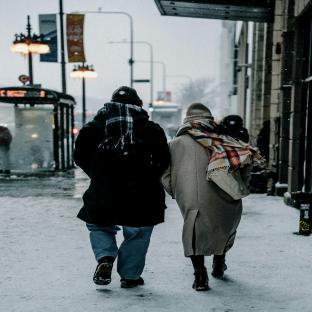Human: (159, 103, 264, 291), (73, 86, 170, 288)
